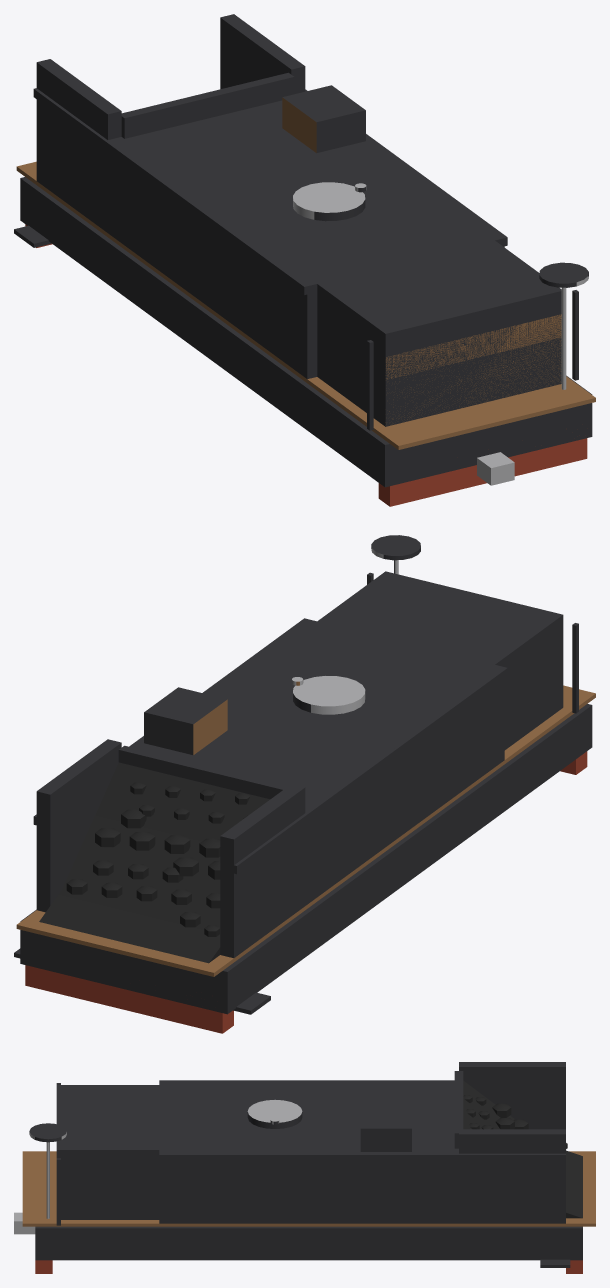
The model's file is tender.glb.
The picture shows the model from 3 angles, top to bottom: view 1: azimuth 30°, elevation 25°; view 2: azimuth 150°, elevation 25°; view 3: azimuth 270°, elevation 25°; orthographic projection. The views are drawn at different scales.
Parts seen in each view (by area): view 1: Body; view 2: Body; view 3: Body.
Part boxes in pixels (box(x1,y1,x2,y2)): Body: box(14, 14, 595, 506); Body: box(14, 535, 595, 1033); Body: box(14, 1062, 595, 1273).
Bounding box in the file's own units: 2.4 × 1.85 × 6.8.
